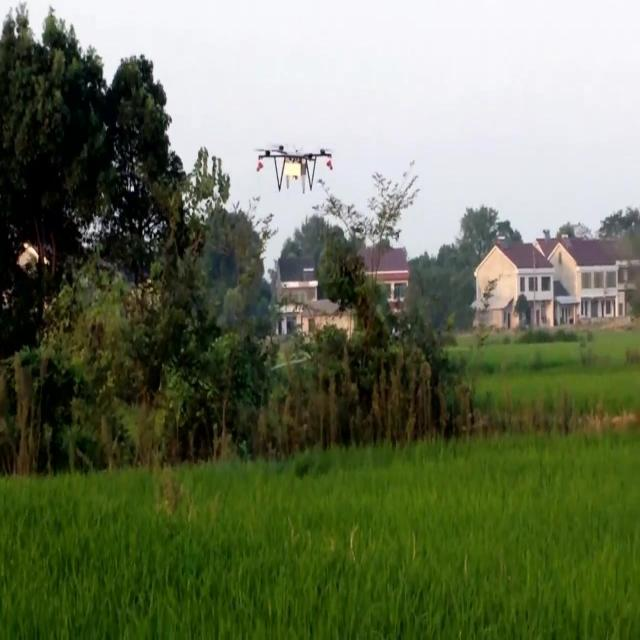UAV: (255, 145, 333, 192)
